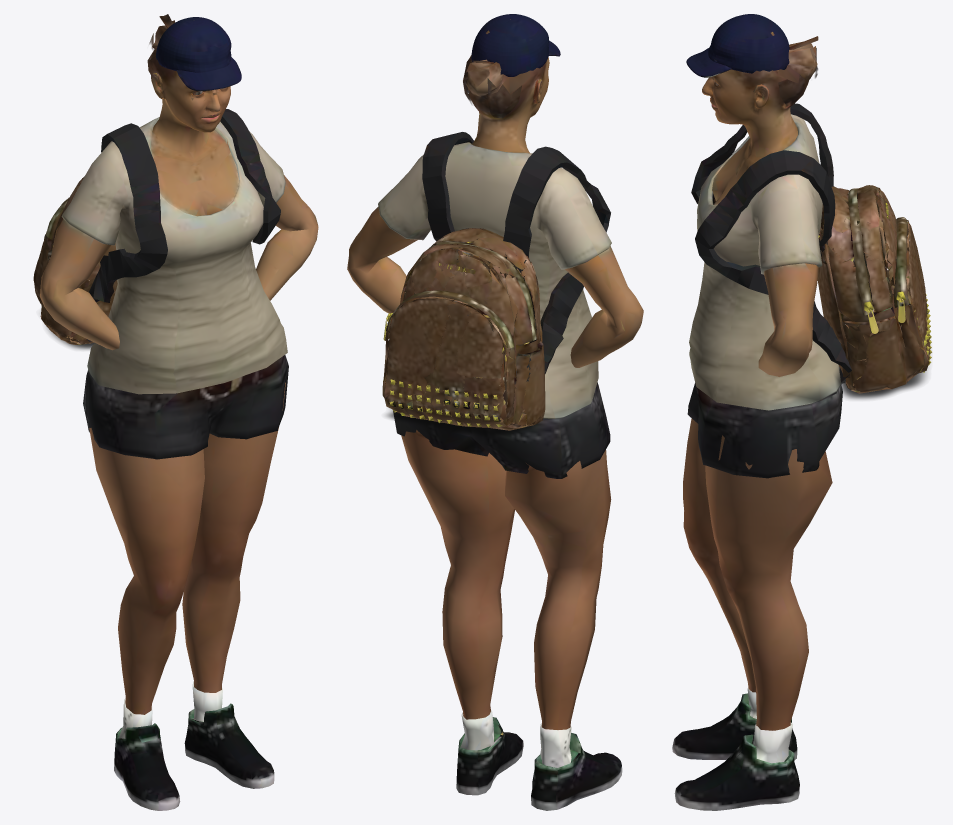
The picture shows the model from 3 angles, left to right: view 1: azimuth 30°, elevation 25°; view 2: azimuth 150°, elevation 25°; view 3: azimuth 270°, elevation 25°; orthographic projection. The views are drawn at different scales.
Parts seen in each view (by area): view 1: p05254; view 2: p05254; view 3: p05254.
Boxes of the visible parts, <box> form: p05254: <box>33,14,318,810</box>; p05254: <box>347,14,643,810</box>; p05254: <box>672,14,931,810</box>.
Size of the model in its own units: 0.6167 by 1.59 by 0.5002.
Materials: 1 (1 with a texture image).
